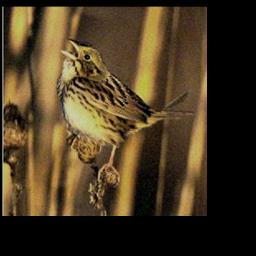Sparrow: (58, 37, 198, 186)
